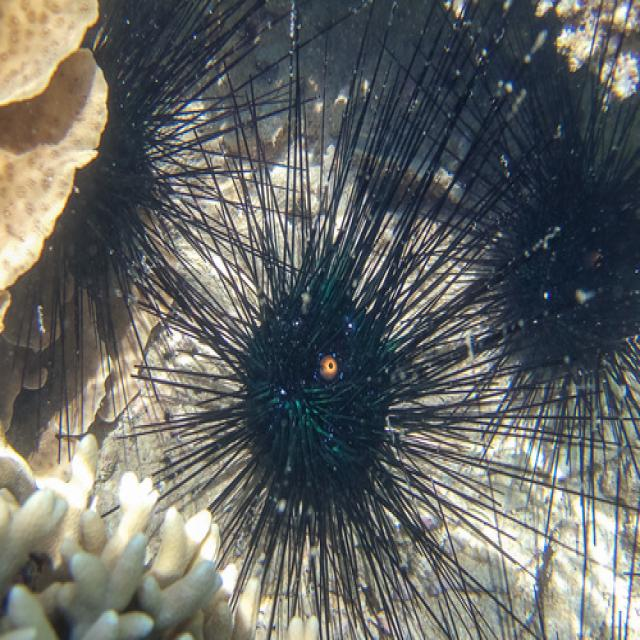Urchin: (128, 17, 509, 628), (403, 9, 640, 546), (27, 5, 297, 374)
